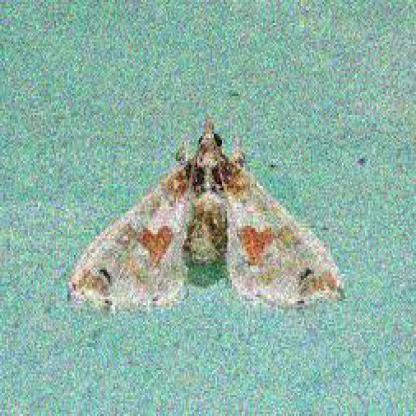leucinodes: (65, 116, 343, 309)
